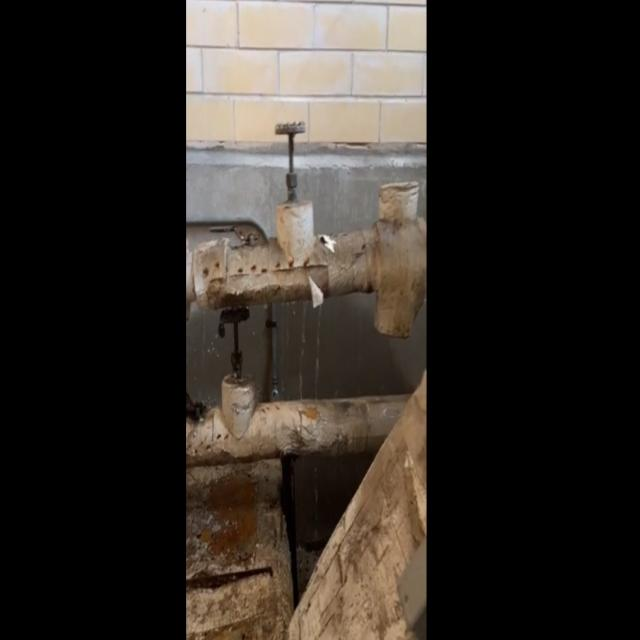leak: (299, 302, 307, 400), (315, 304, 322, 397), (286, 302, 289, 379)
